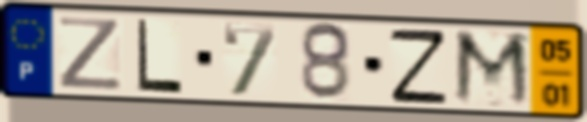7: (220, 20, 280, 99)
8: (296, 21, 355, 105)
L: (134, 16, 186, 96)
M: (450, 27, 536, 111)
Z: (55, 15, 127, 93), (386, 27, 451, 106)
